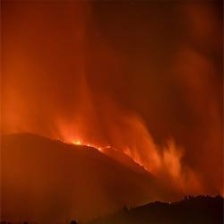fire: (58, 112, 175, 182)
